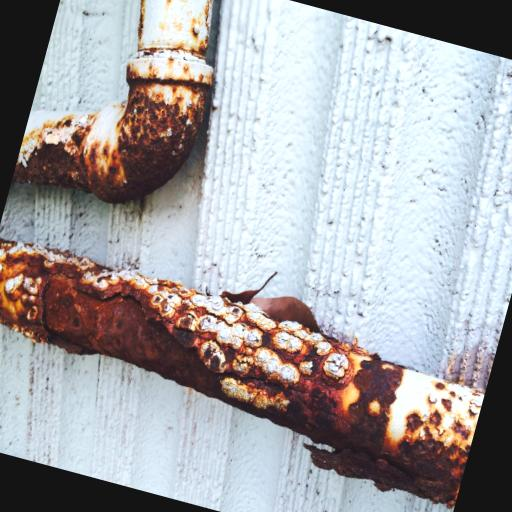segmentation: (0, 172, 505, 512), (0, 270, 42, 335)
